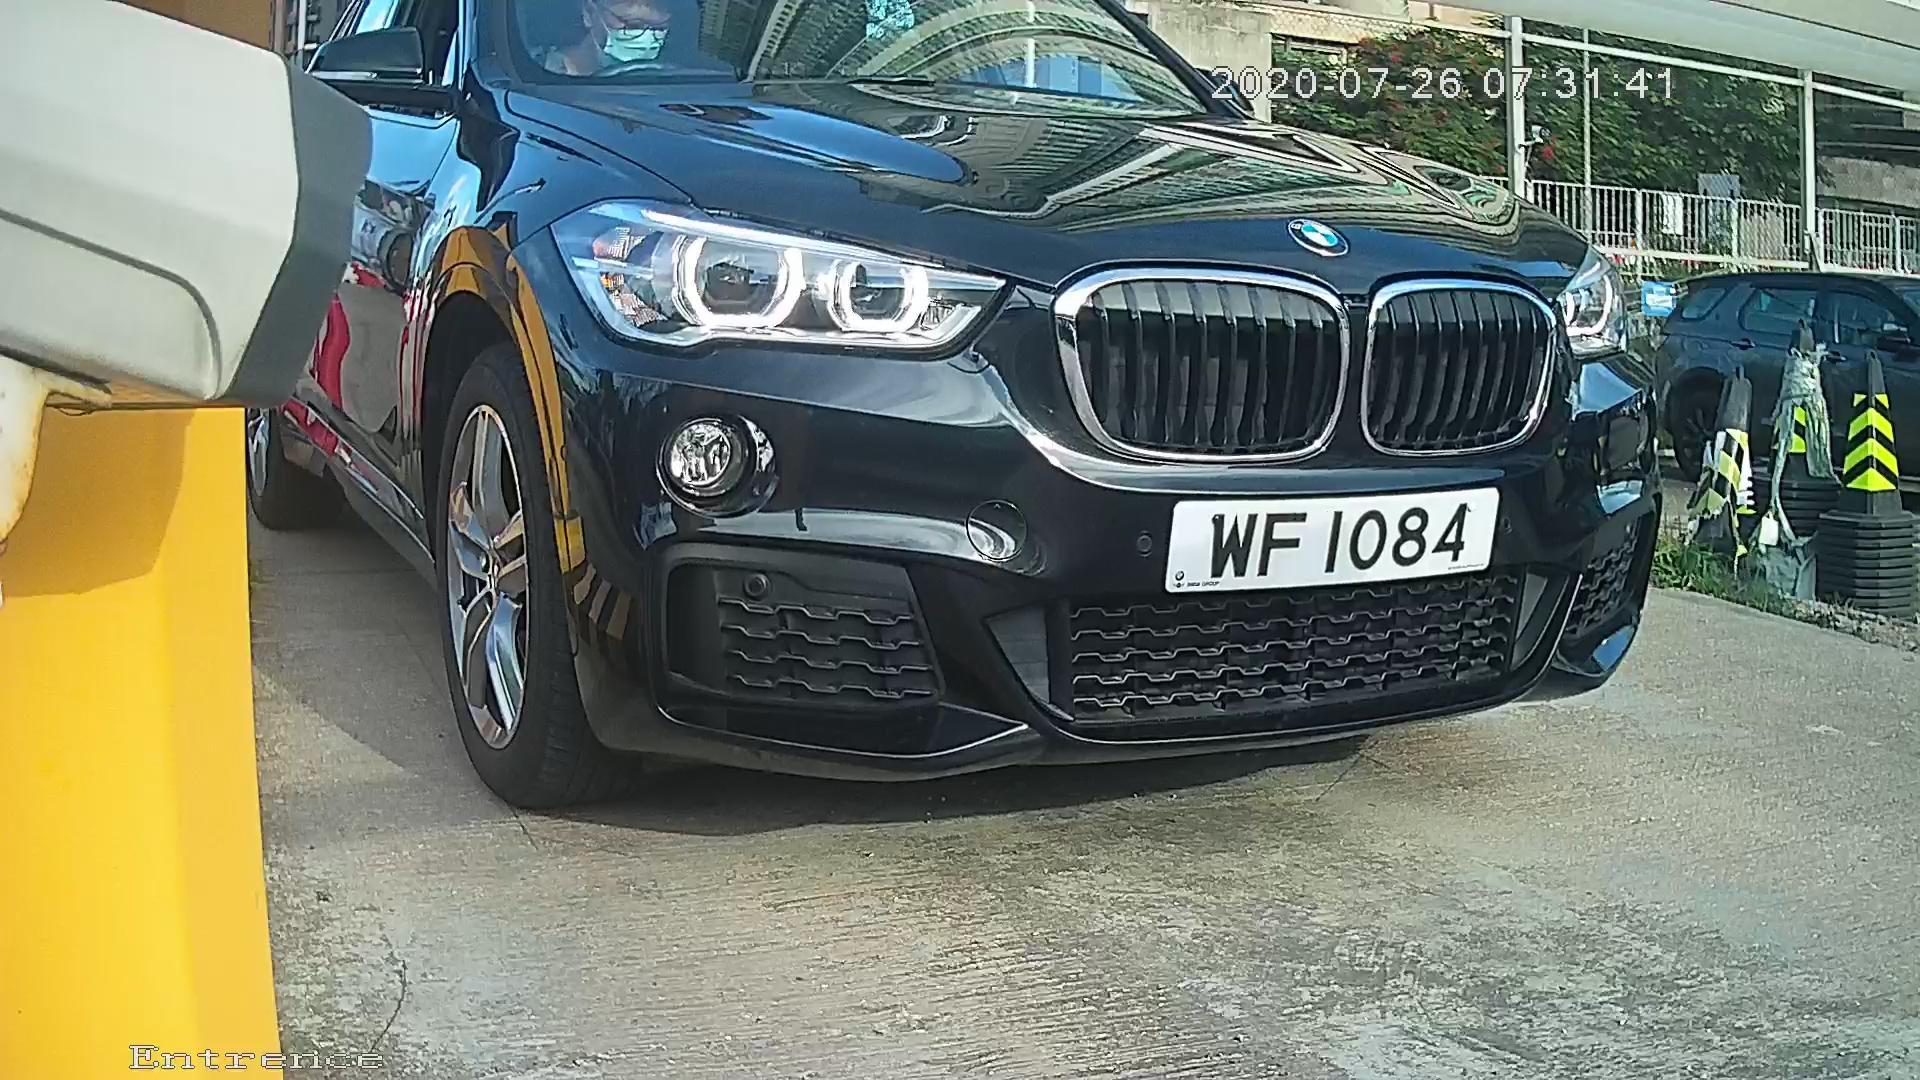privatecar: (223, 20, 1783, 806)
